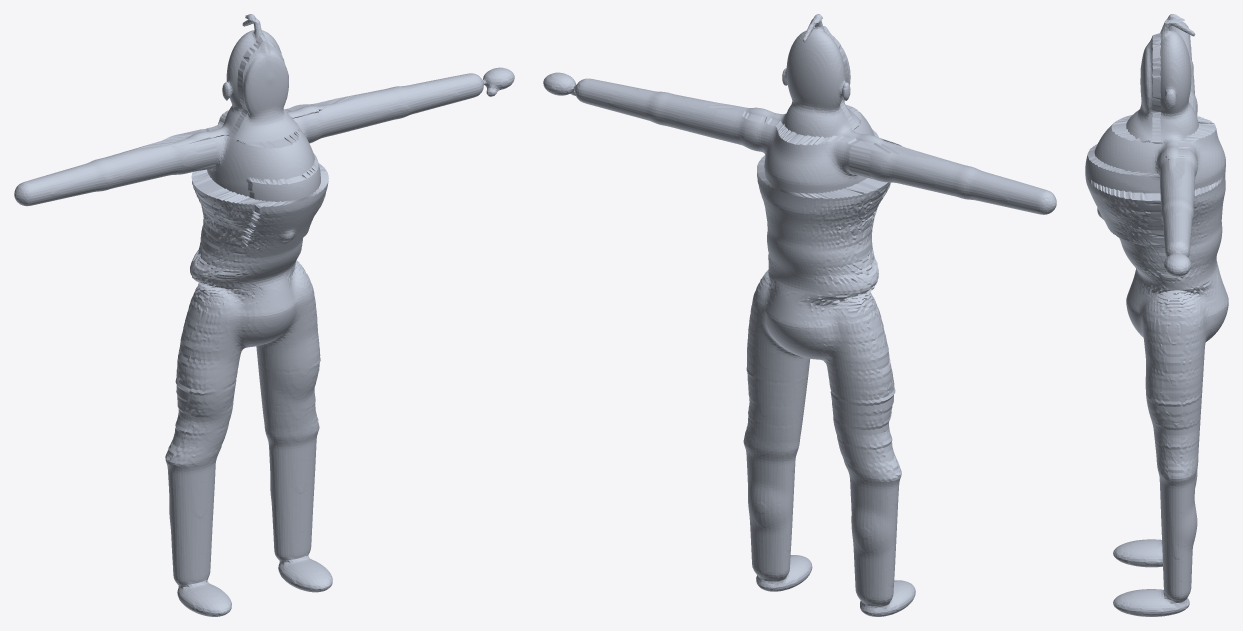
Rendered from _mesh_only.obj.
3 views of the same model, side by side, from view 1: azimuth 30°, elevation 25°; view 2: azimuth 150°, elevation 25°; view 3: azimuth 270°, elevation 25° (orthographic). The views are drawn at different scales.
Visible parts, largest first — view 1: UltramanClassic; view 2: UltramanClassic; view 3: UltramanClassic.
Part boxes in pixels (<box>): UltramanClassic: <box>14,14,514,616</box>; UltramanClassic: <box>543,14,1056,616</box>; UltramanClassic: <box>1085,14,1228,616</box>.
Size of the model in its own units: 1.74 by 1.92 by 0.4326.
